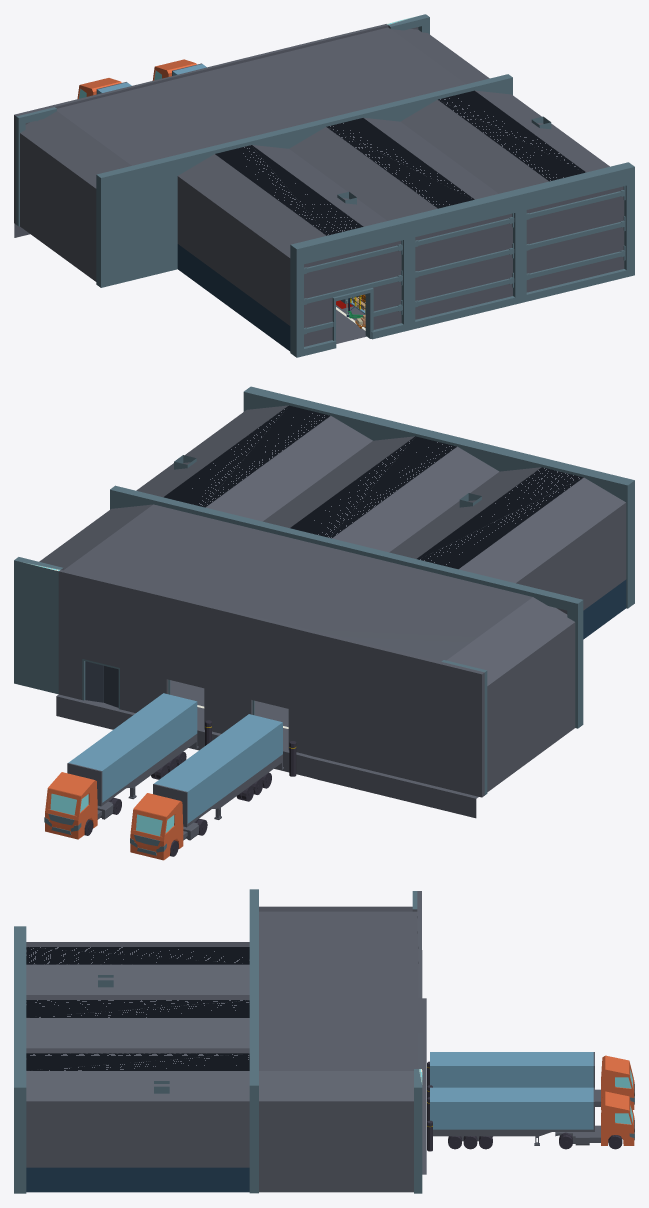
The model's file is Scenary_Warehouse_A.fbx.
The picture shows the model from 3 angles, top to bottom: view 1: azimuth 30°, elevation 25°; view 2: azimuth 150°, elevation 25°; view 3: azimuth 270°, elevation 25°; orthographic projection. The views are drawn at different scales.
Parts seen in each view (by area): view 1: Scenary_ZonaDeBodega, Scenary_ZonaDeDescarga, Scenary_Wall_B, Scenary_Wall_A, Prop_Truck.001, Prop_Truck; view 2: Scenary_ZonaDeDescarga, Scenary_ZonaDeBodega, Prop_Truck.001, Prop_Truck, Scenary_Wall_B, Scenary_Wall_A; view 3: Scenary_ZonaDeBodega, Scenary_ZonaDeDescarga, Prop_Truck, Prop_Truck.001, Scenary_Wall_B, Scenary_Wall_A.
Part boxes in pixels (bbox=[...]): Scenary_ZonaDeBodega: bbox=[177, 90, 609, 351]; Scenary_ZonaDeDescarga: bbox=[14, 14, 489, 281]; Scenary_Wall_B: bbox=[290, 162, 634, 357]; Scenary_Wall_A: bbox=[96, 74, 512, 287]; Prop_Truck.001: bbox=[77, 78, 131, 98]; Prop_Truck: bbox=[152, 59, 206, 80]; Scenary_ZonaDeDescarga: bbox=[14, 504, 575, 818]; Scenary_ZonaDeBodega: bbox=[136, 405, 626, 639]; Prop_Truck.001: bbox=[130, 714, 283, 860]; Prop_Truck: bbox=[44, 693, 198, 839]; Scenary_Wall_B: bbox=[243, 386, 634, 608]; Scenary_Wall_A: bbox=[110, 485, 583, 728]; Scenary_ZonaDeBodega: bbox=[26, 942, 249, 1192]; Scenary_ZonaDeDescarga: bbox=[259, 891, 432, 1193]; Prop_Truck: bbox=[430, 1087, 634, 1149]; Prop_Truck.001: bbox=[430, 1052, 634, 1109]; Scenary_Wall_B: bbox=[14, 926, 26, 1193]; Scenary_Wall_A: bbox=[249, 889, 258, 1193].
Size of the model in its own units: 3341 by 1011 by 4447.
Materials: 4 (4 with a texture image).
